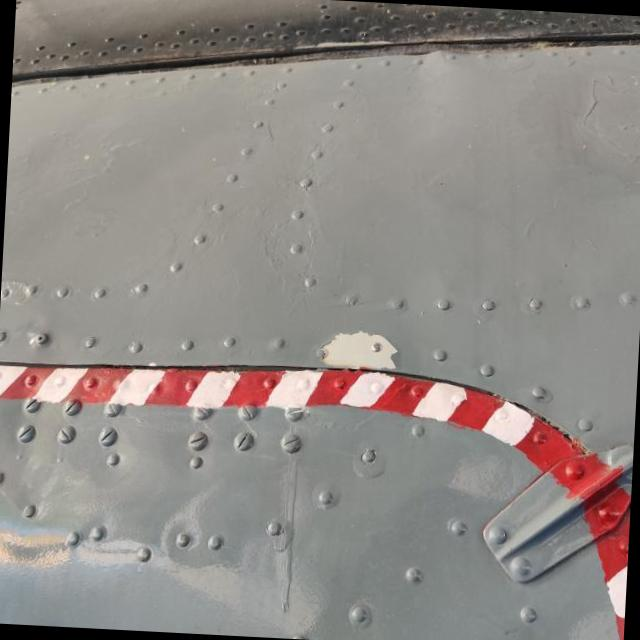Paint-off: (322, 332, 398, 370)
